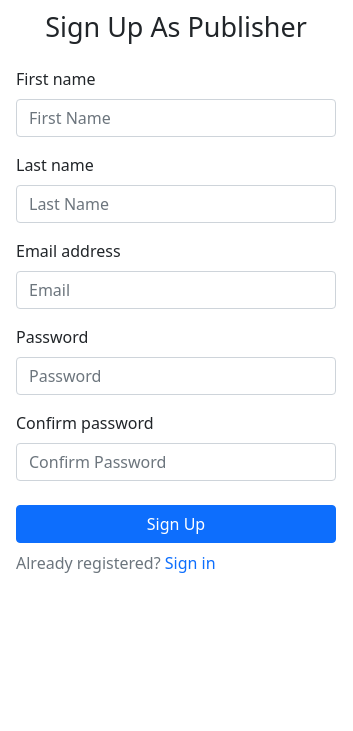
Testing SignUp component › Testing the component when inserting an invalid password it should shows a text that contains "Password should"
The width and height of the screenshot is (353, 731).
Step 1. Type "blablabla" into the password field with placeholder "Password" → coordinates (176, 376), box [16,357,336,395]
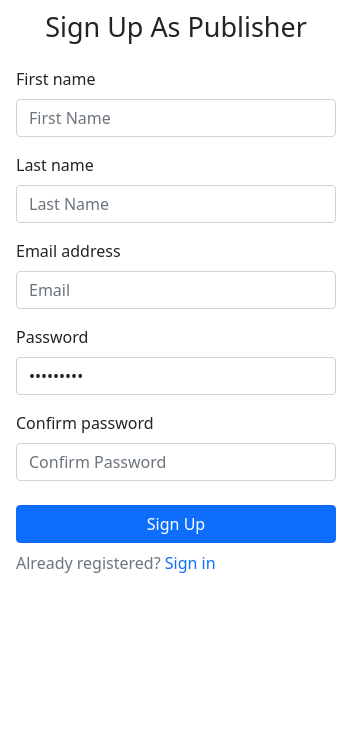
Step 2. Click the button "Sign Up" → coordinates (176, 524), box [16,505,336,543]
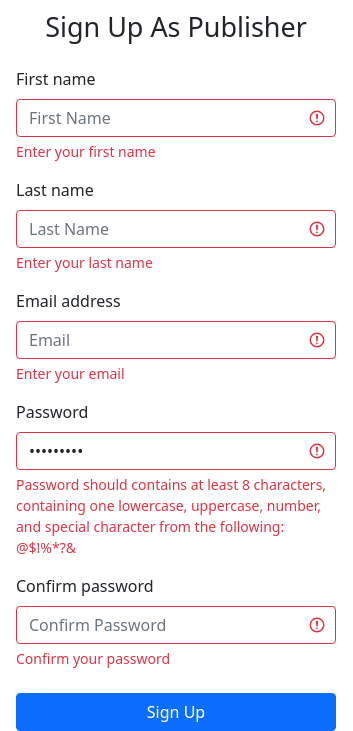
Check: the text "Password should" is shown, box [16,475,326,557]
